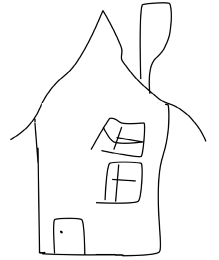big_house: (1, 0, 216, 258)
chimney: (125, 0, 189, 104)
closed_window: (84, 114, 152, 160), (94, 156, 148, 209)
door: (47, 212, 91, 259)
single_line_roof: (0, 5, 210, 148)
wall: (26, 99, 172, 259)
